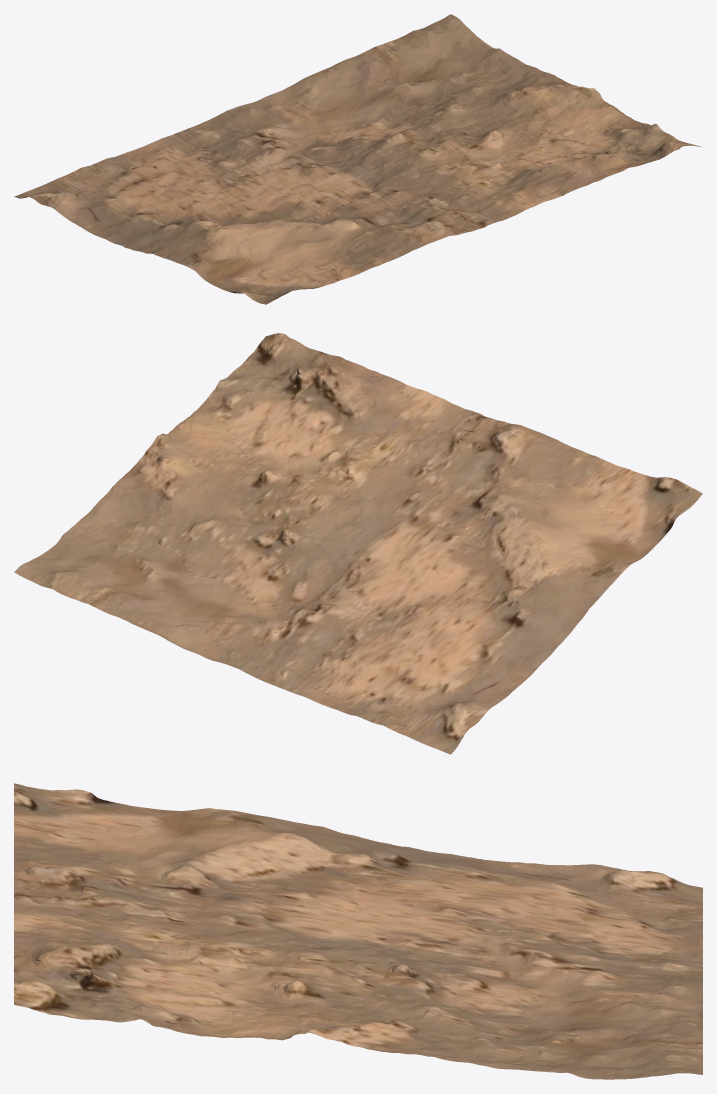
3 views of the same model, one above another, from view 1: azimuth 30°, elevation 25°; view 2: azimuth 150°, elevation 25°; view 3: azimuth 270°, elevation 25° (orthographic). The views are drawn at different scales.
Size of the model in its own units: 2.09 by 0.6133 by 2.09.
Materials: 2 (2 with a texture image).
